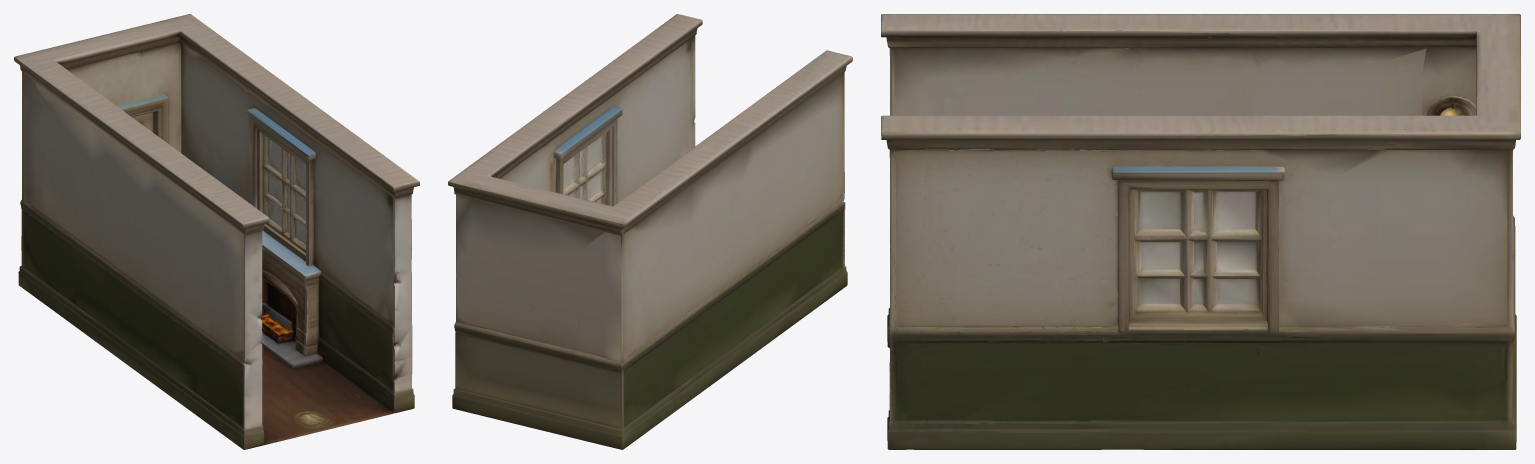
The model's file is env-butch-room-shell.glb.
The picture shows the model from 3 angles, left to right: view 1: azimuth 30°, elevation 25°; view 2: azimuth 150°, elevation 25°; view 3: azimuth 270°, elevation 25°; orthographic projection. The views are drawn at different scales.
Visible parts, largest first — view 1: env-butch-room-shell; view 2: env-butch-room-shell; view 3: env-butch-room-shell.
Part boxes in pixels (box(x1,y1,x2,y2)): env-butch-room-shell: box(14, 14, 419, 449); env-butch-room-shell: box(448, 14, 852, 449); env-butch-room-shell: box(881, 14, 1520, 449).
Bounding box in the file's own units: 2.58 × 3.2 × 5.79.
1 material, 1 textured.
